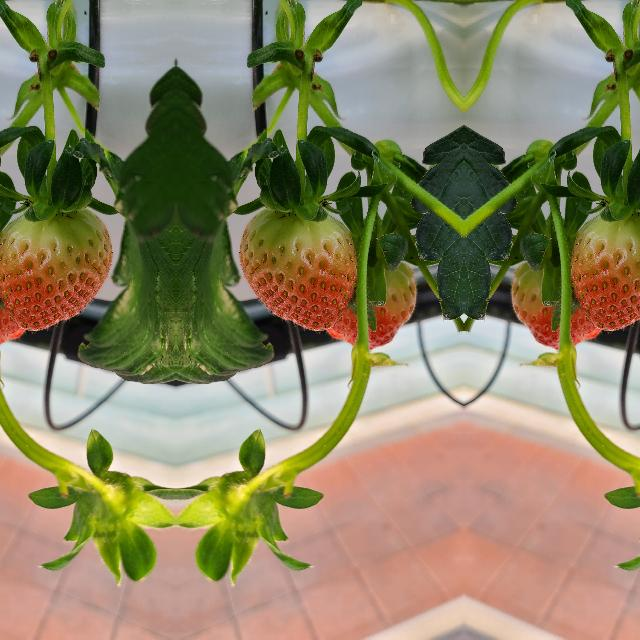Health_100: (324, 230, 412, 354), (514, 230, 602, 354), (0, 230, 25, 353)
Health_75: (238, 208, 354, 329), (0, 208, 112, 329), (572, 208, 640, 329)
